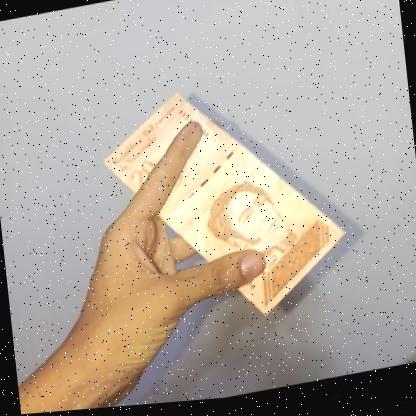twenty-front-vef: (96, 69, 352, 343)
